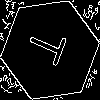T: (25, 25, 75, 70)
